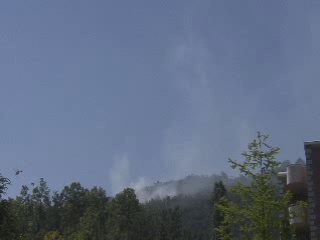smoke: (134, 141, 220, 203), (106, 154, 126, 199)
